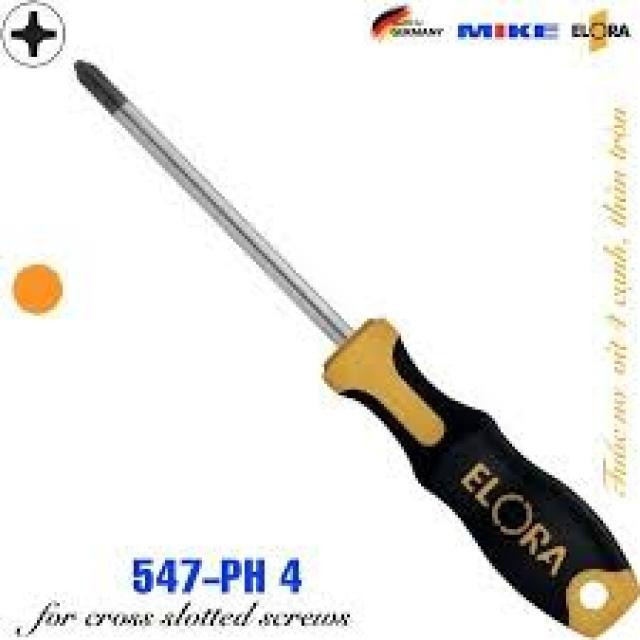screwdriver: (68, 57, 637, 638)
